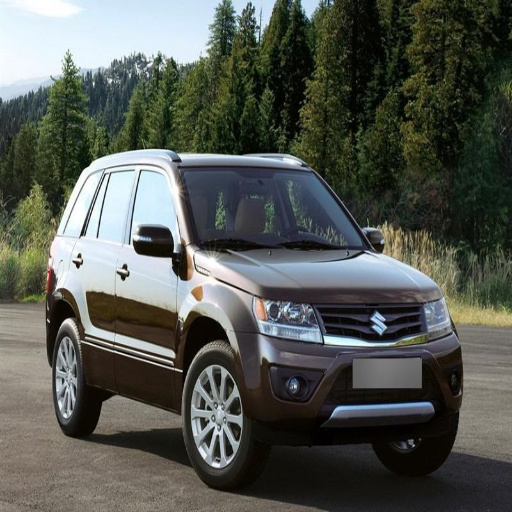front_bumper: (237, 293, 461, 432)
front_right_door: (115, 162, 184, 398)
front_right_light: (255, 297, 319, 339)
hood: (208, 250, 441, 302)
